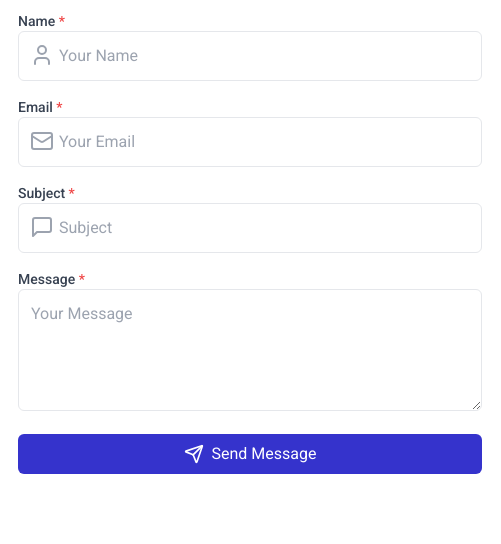
Test: EmailForm Component › shows success message after successful submission
Type "Chris" into the field labelled "Name *" at (250, 56), box x1=18 y1=31 x2=482 y2=81
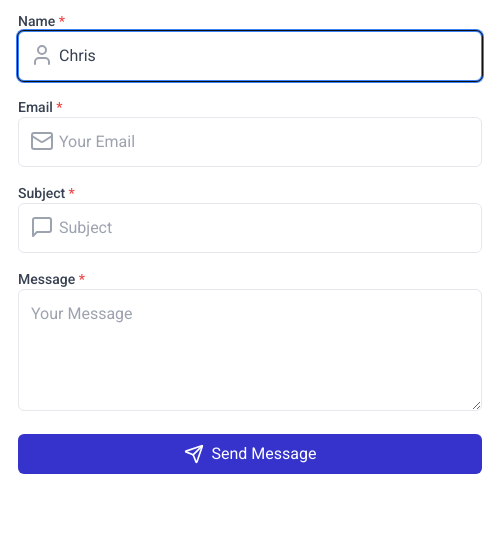
Type "chris@example.com" into the field labelled "Email *" at (250, 142), box x1=18 y1=117 x2=482 y2=167
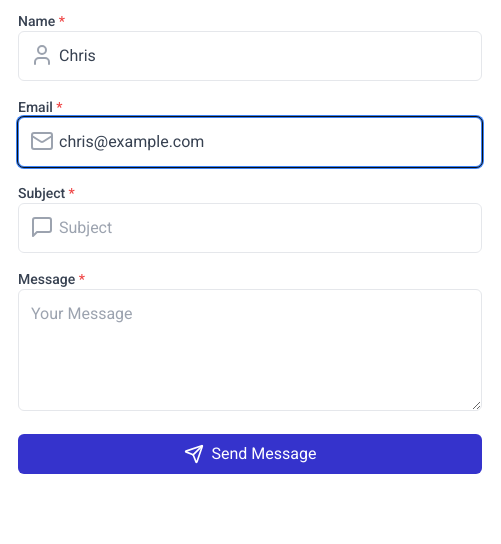
Type "Hello" into the field labelled "Subject *" at (250, 228), box x1=18 y1=203 x2=482 y2=253
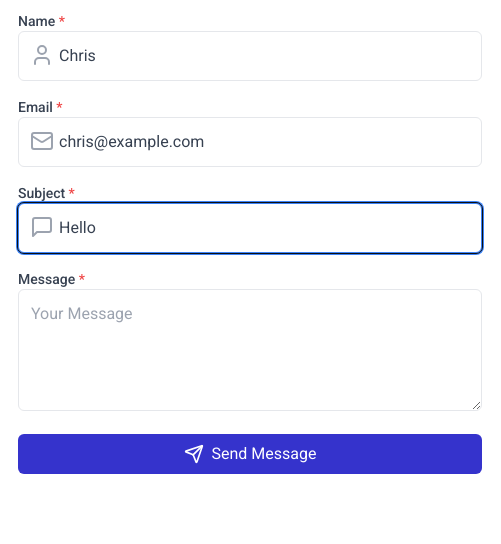
Type "This is a valid test message!" into the text box labelled "Message *" at (250, 350), box x1=18 y1=289 x2=482 y2=411
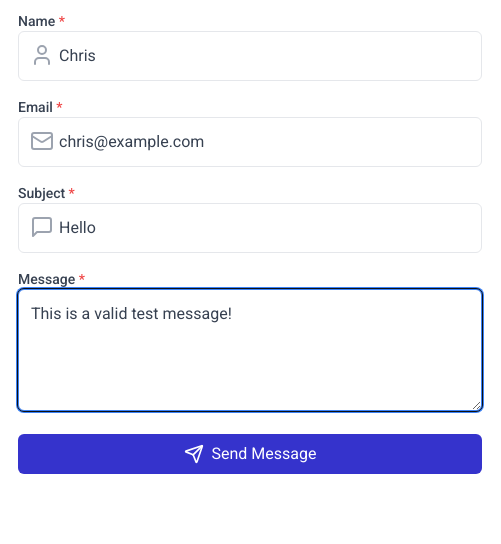
Click the button "Send Message" at (250, 454), box x1=18 y1=434 x2=482 y2=474
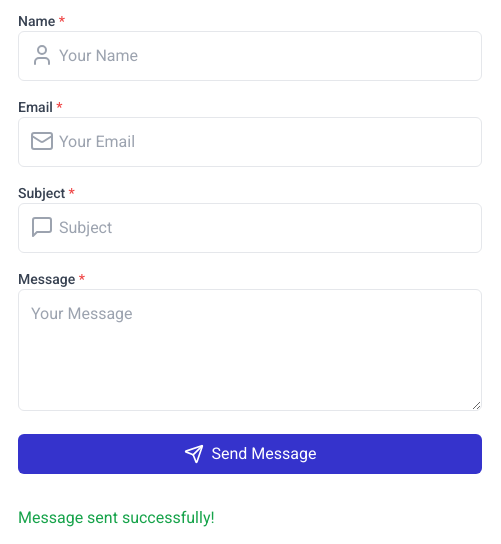
Check: the text "Message sent successfully!" is shown, box x1=18 y1=508 x2=215 y2=527
